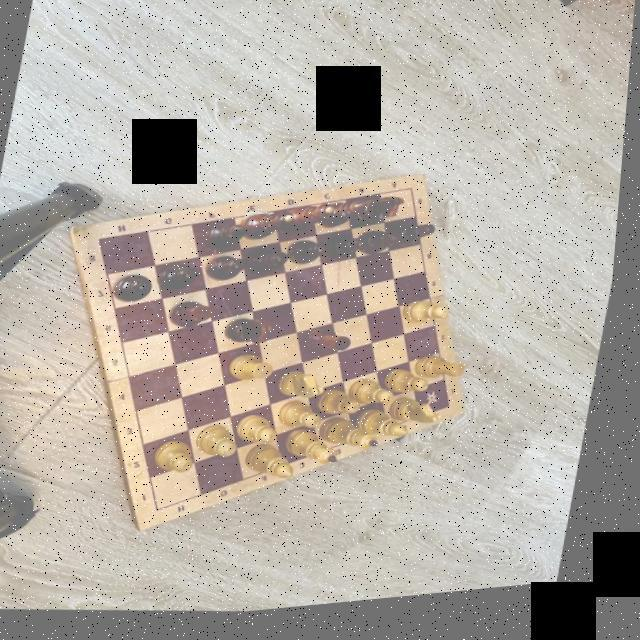chess-table-corners: (406, 191, 421, 203), (96, 236, 110, 248), (448, 411, 461, 421), (160, 508, 170, 518)
